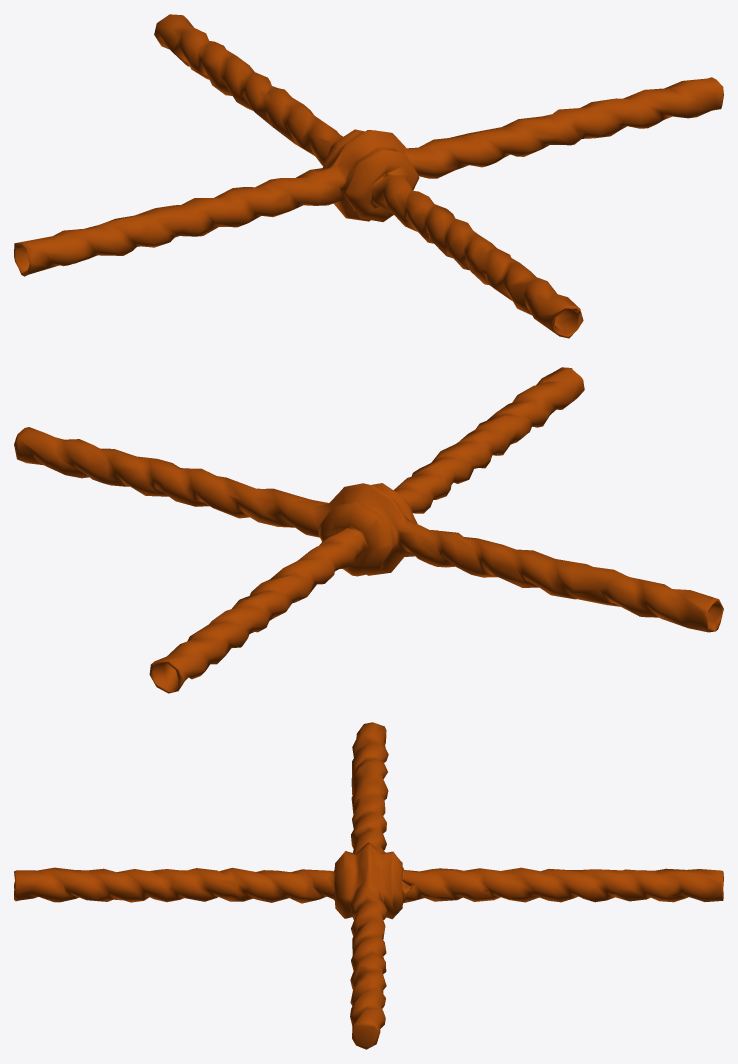
File: gen3d-rope-lod0.glb
The picture shows the model from 3 angles, top to bottom: view 1: azimuth 30°, elevation 25°; view 2: azimuth 150°, elevation 25°; view 3: azimuth 270°, elevation 25°; orthographic projection. The views are drawn at different scales.
Visible parts, largest first — view 1: part_0; view 2: part_0; view 3: part_0.
Boxes of the visible parts, x1,y1,x2,y2 form: part_0: (14,14,723,338); part_0: (14,367,723,693); part_0: (14,722,723,1049).
Bounding box in the file's own units: 7.89 × 0.9897 × 7.89.
